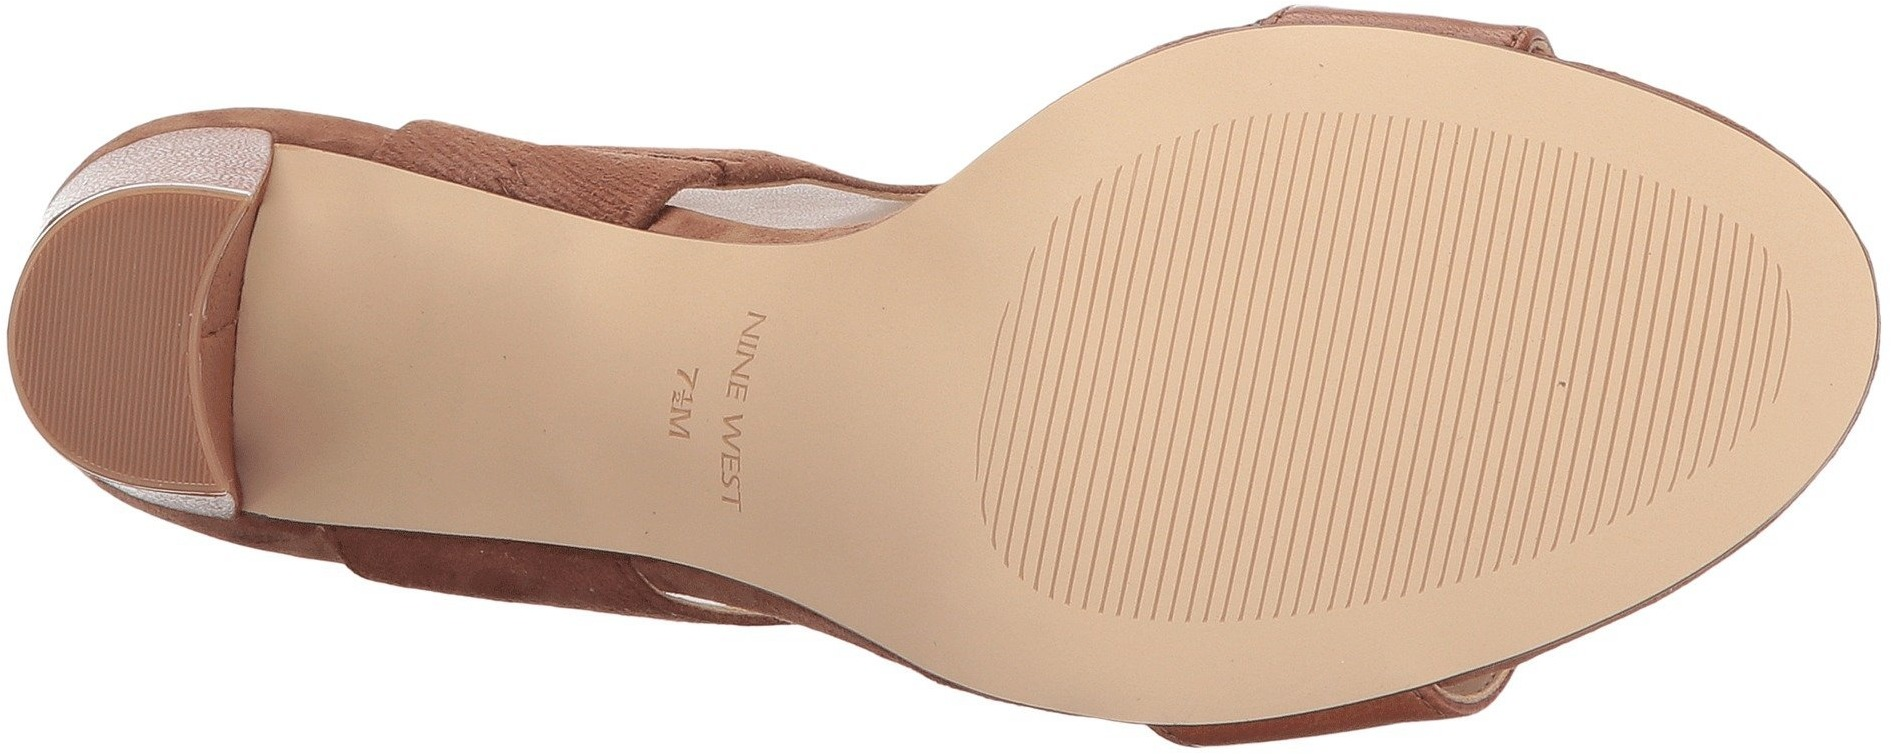exclude: (238, 133, 642, 625)
line: (1322, 189, 1663, 538), (1028, 251, 1319, 524)
other: (31, 280, 183, 431), (1200, 128, 1317, 242), (1192, 528, 1281, 623)
text: (616, 290, 778, 458), (698, 467, 761, 527)
